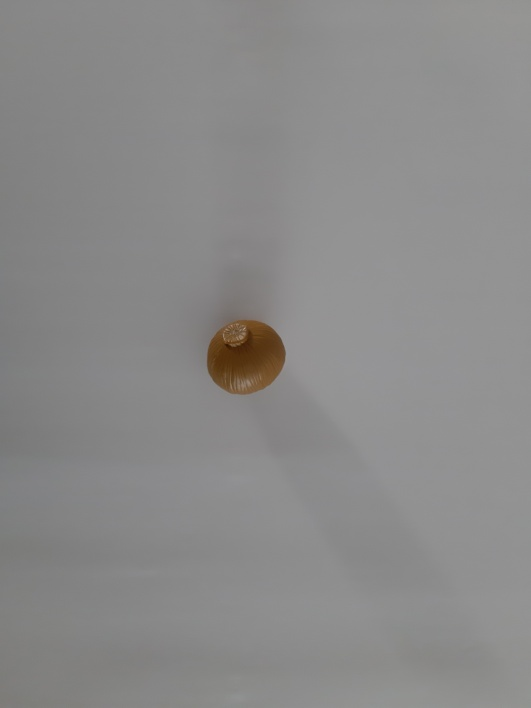onion: (191, 303, 308, 414)
